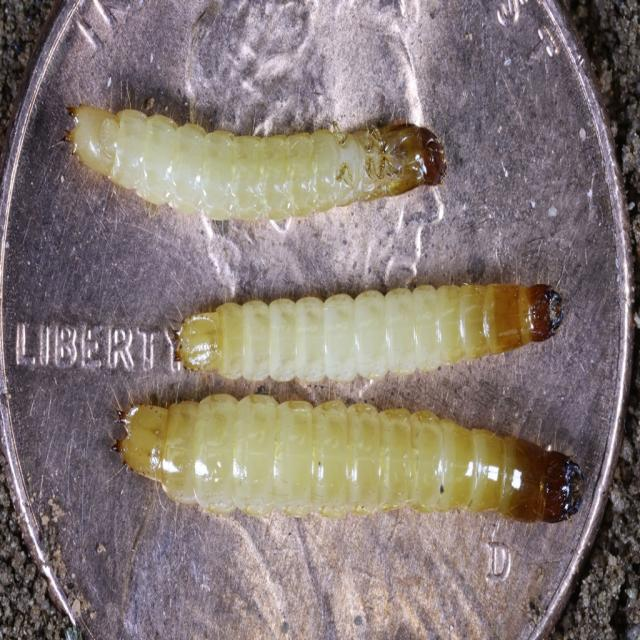cucumber_beetle: (62, 80, 450, 236), (162, 273, 566, 389)
wireworm: (106, 394, 588, 542)
